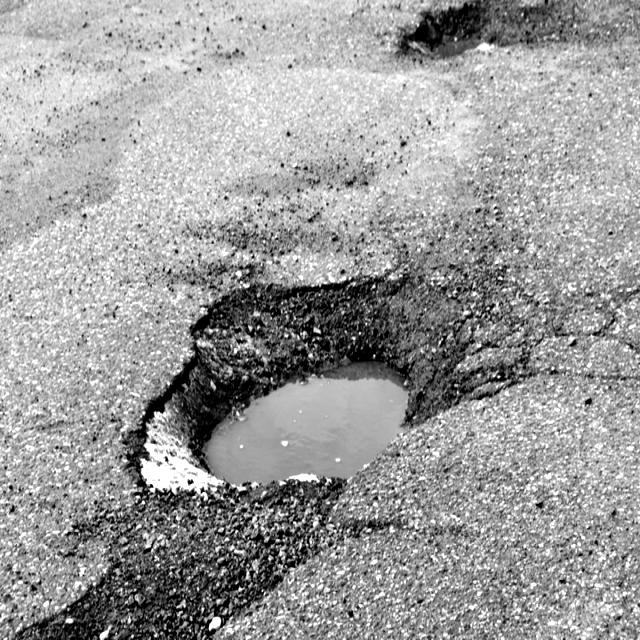pathole: (34, 149, 507, 610), (355, 6, 569, 63)
